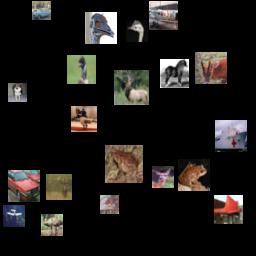airplane: (149, 1, 178, 30), (3, 205, 25, 227)
automobile: (8, 170, 40, 202), (32, 1, 51, 20)
bird: (85, 12, 117, 44), (67, 55, 96, 84), (41, 214, 63, 236), (126, 20, 148, 42), (100, 195, 119, 214)
deer: (114, 70, 149, 105), (195, 52, 227, 84), (46, 174, 72, 200), (152, 166, 174, 188)
dog: (8, 83, 27, 102)
frog: (105, 145, 143, 183), (178, 159, 210, 191)
ship: (215, 120, 247, 152)
truck: (214, 195, 243, 224)
